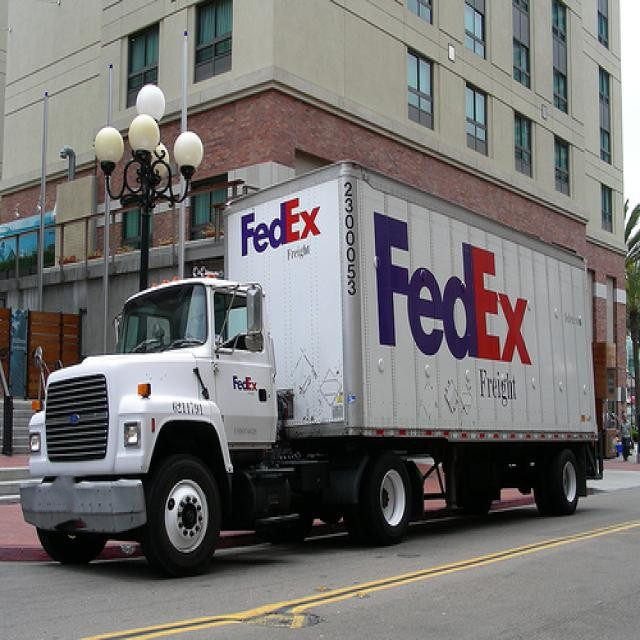truck: (24, 162, 596, 568)
